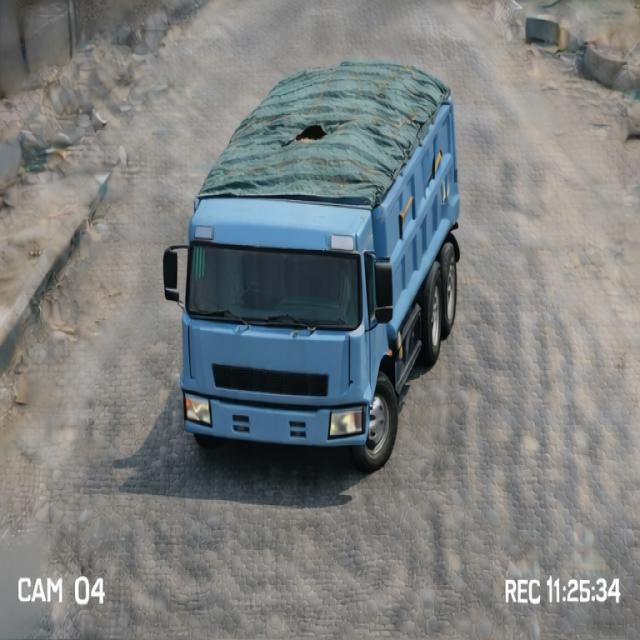Box: (198, 57, 464, 203)
Truck: (164, 49, 477, 449)
